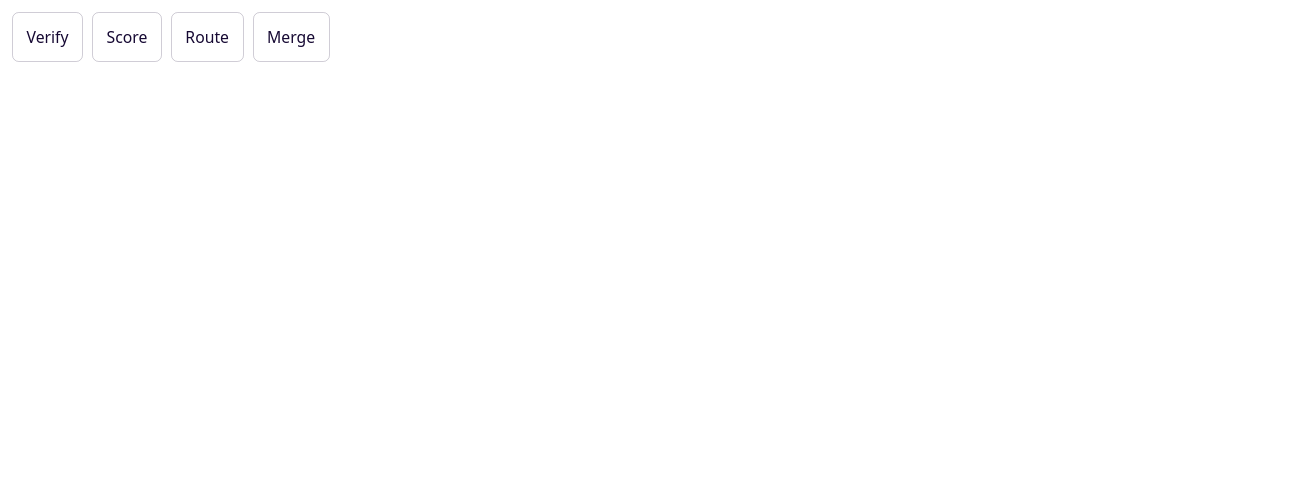
Scenario: CandidateActionPanel › surfaces the verification-gate 403 message from the server on score
This screenshot has width=1292, height=479.
Click the button "Score" at (127, 37), box [92,12,162,62]
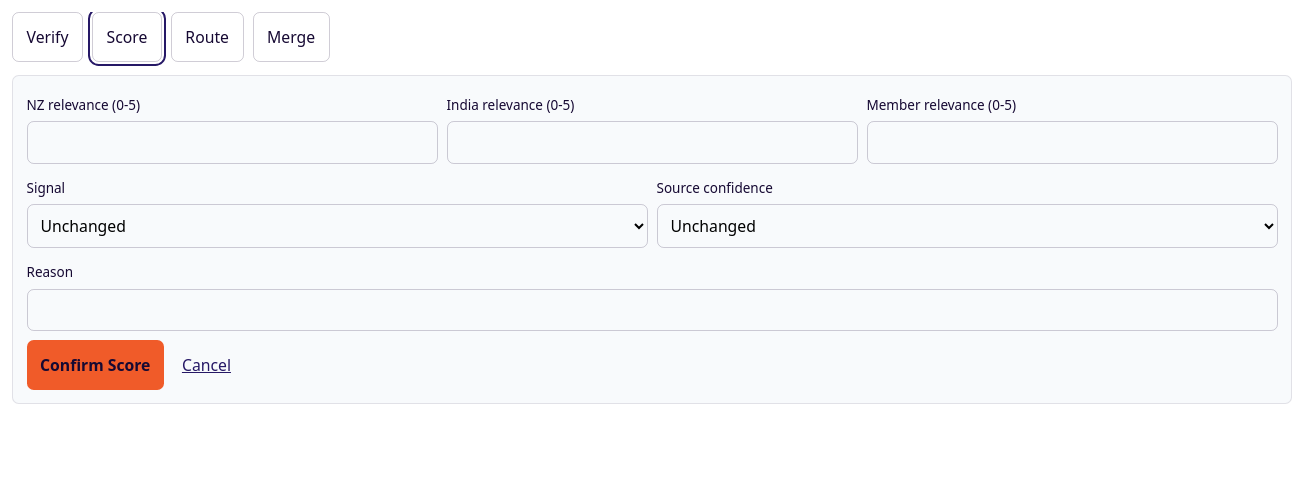
Select "High" in the dropdown labelled "Signal" at (337, 226), box [26,204,648,248]
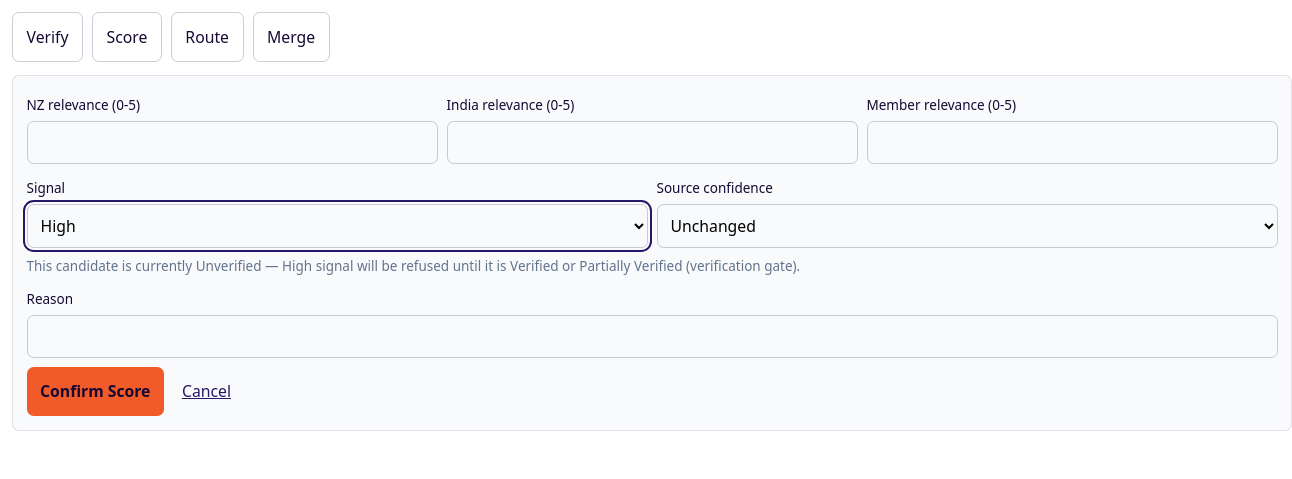
Type "scoring" into the field labelled "Reason" at (652, 337), box [26,316,1278,358]
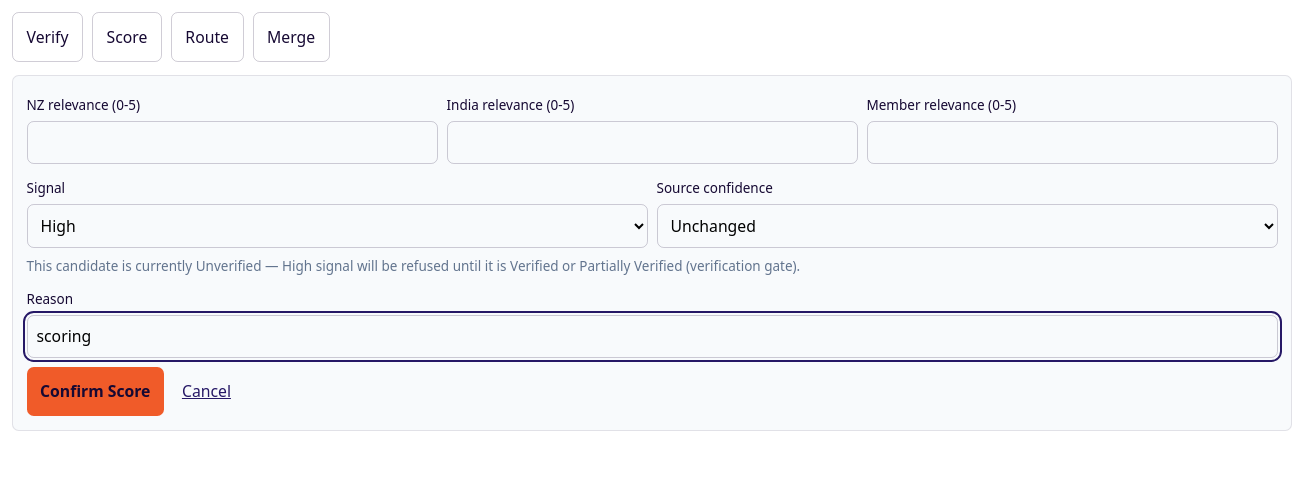
Click the button "Confirm Score" at (95, 392), box [26,367,164,416]
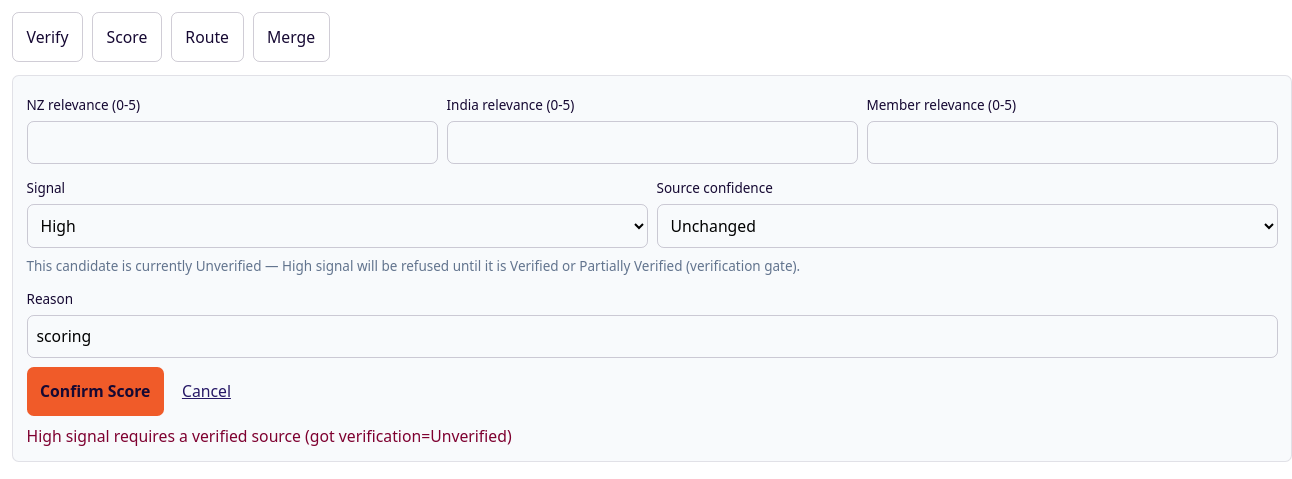
Result: the message shows "requires a verified source" at [26,426,512,448]
